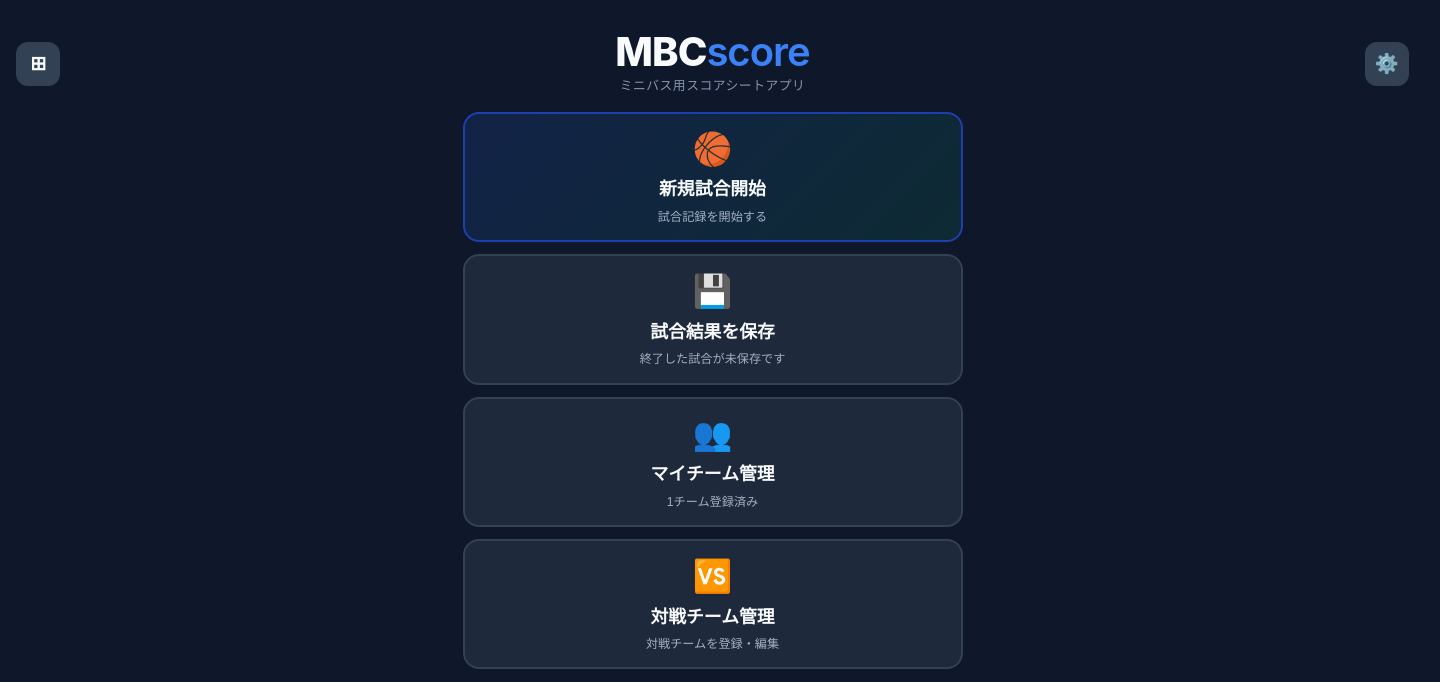
Test: App: 未解決の保留アクションがある状態での試合終了 › 警告を出している間はまだ保存しない
Click the text "試合結果を保存" at (713, 330), box [650,317,775,343]
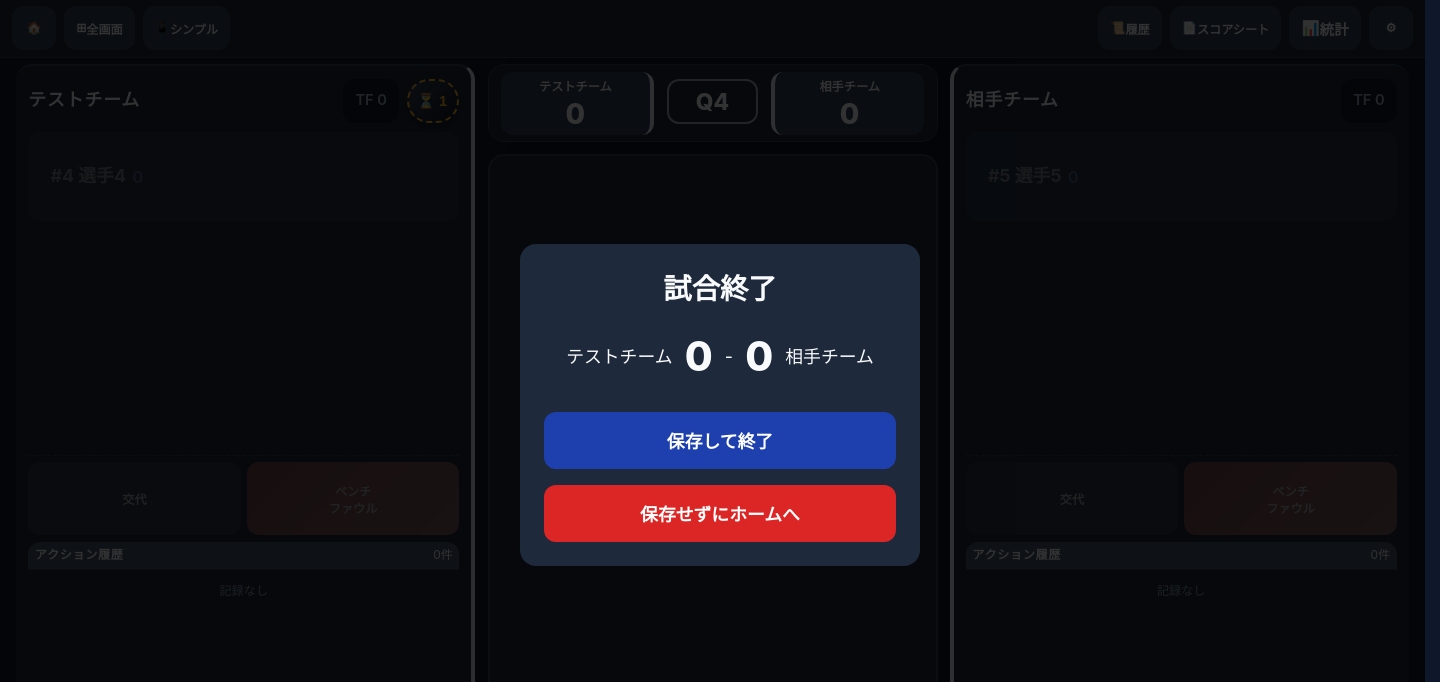
Click the button "保存して終了" at (720, 440), box [544,412,896,469]
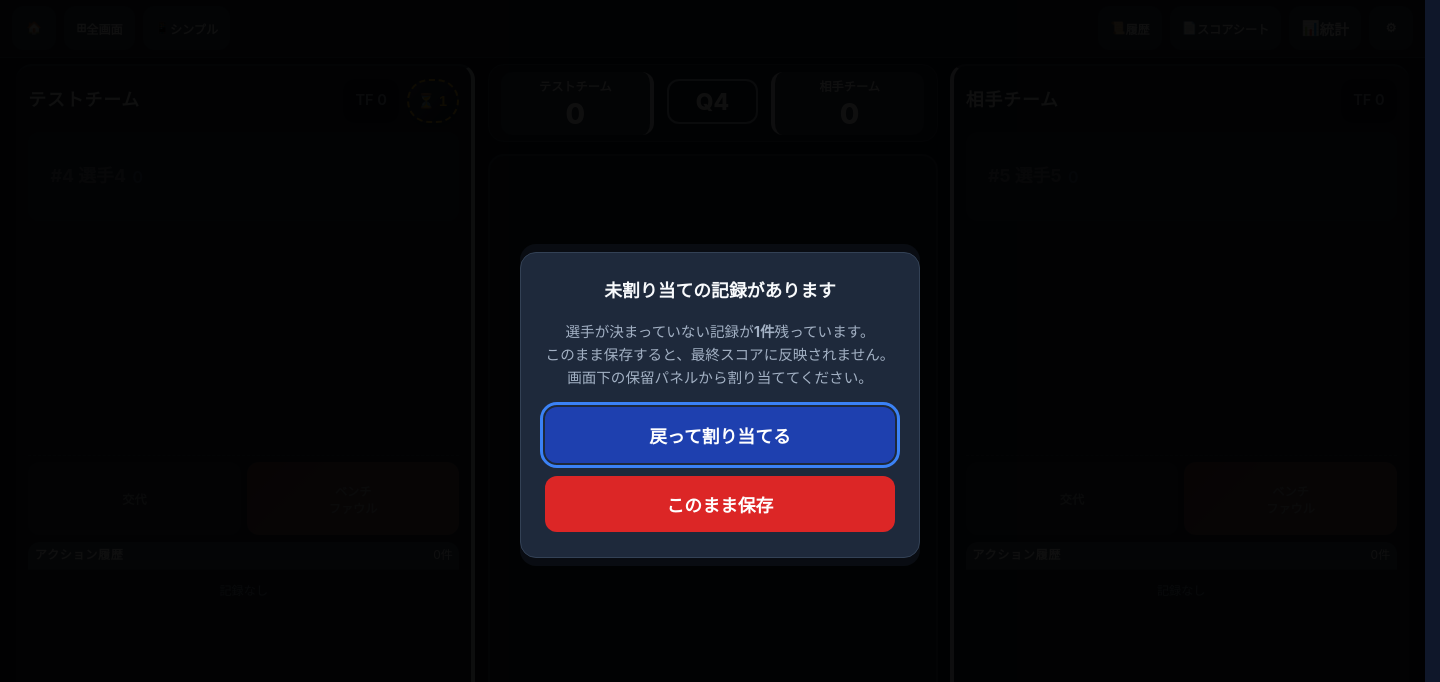
Expected: the heading "未割り当ての記録があります" is shown, [604,280,836,301]
